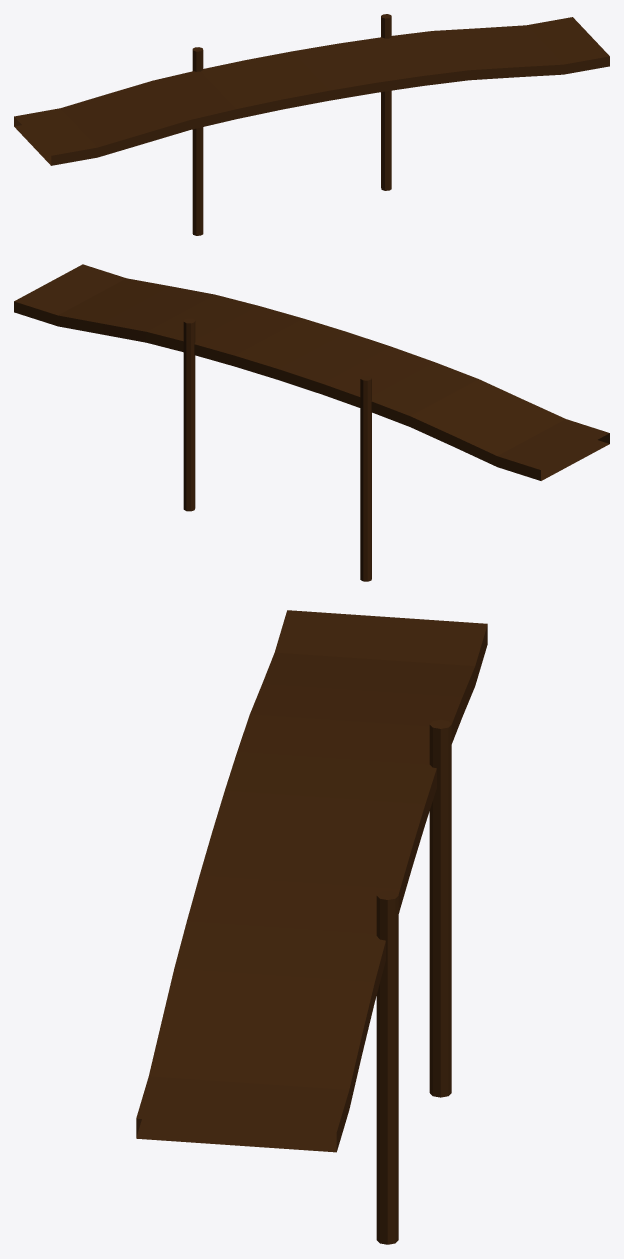
Rendered from Bridge.fbx.
3 views of the same model, one above another, from view 1: azimuth 30°, elevation 25°; view 2: azimuth 150°, elevation 25°; view 3: azimuth 270°, elevation 25° (orthographic). The views are drawn at different scales.
Parts seen in each view (by area): view 1: Bridge; view 2: Bridge; view 3: Bridge.
Part boxes in pixels (bbox=[...]): Bridge: bbox=[14, 14, 609, 235]; Bridge: bbox=[14, 264, 609, 581]; Bridge: bbox=[136, 610, 487, 1244].
Bounding box in the file's own units: 1786 × 589 × 509.
